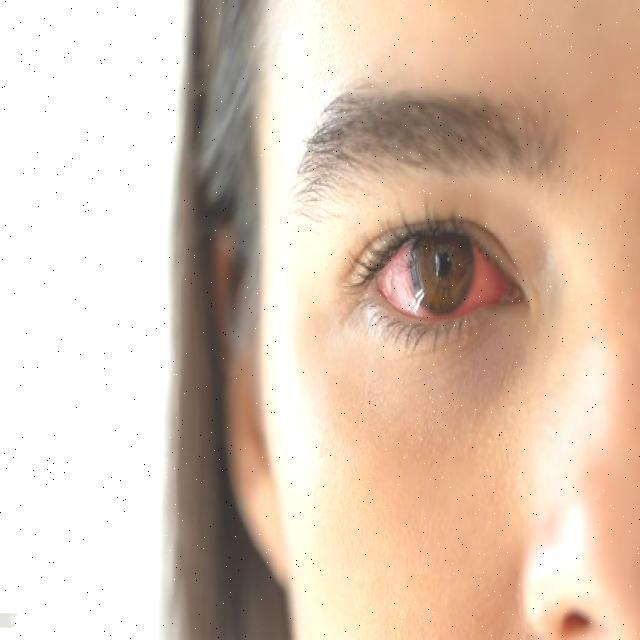Conjunctivitis: (372, 242, 522, 318)
